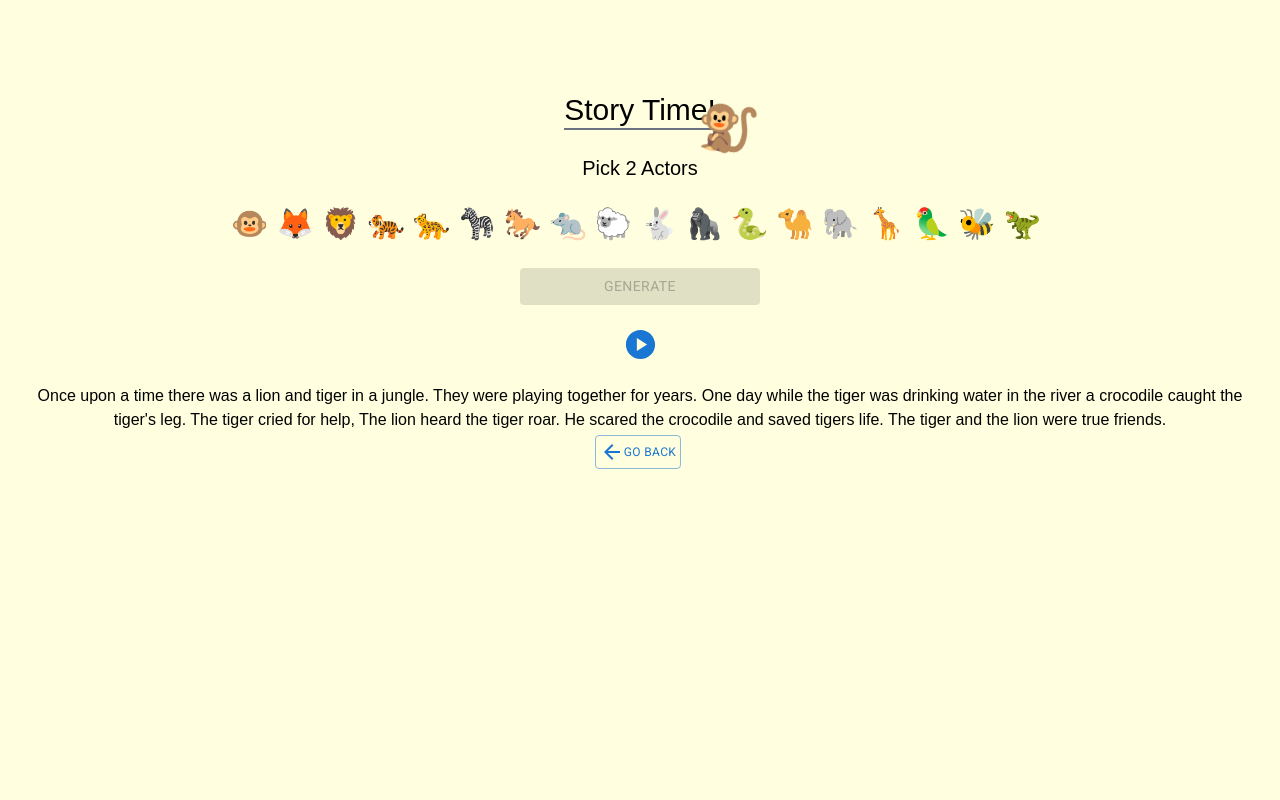
Test: generate button is disabled when all character buttons are deselected
Expected: the button "Generate" is disabled, x1=520 y1=268 x2=760 y2=305
Click the button "🦒" at (886, 224), box x1=867 y1=206 x2=905 y2=242
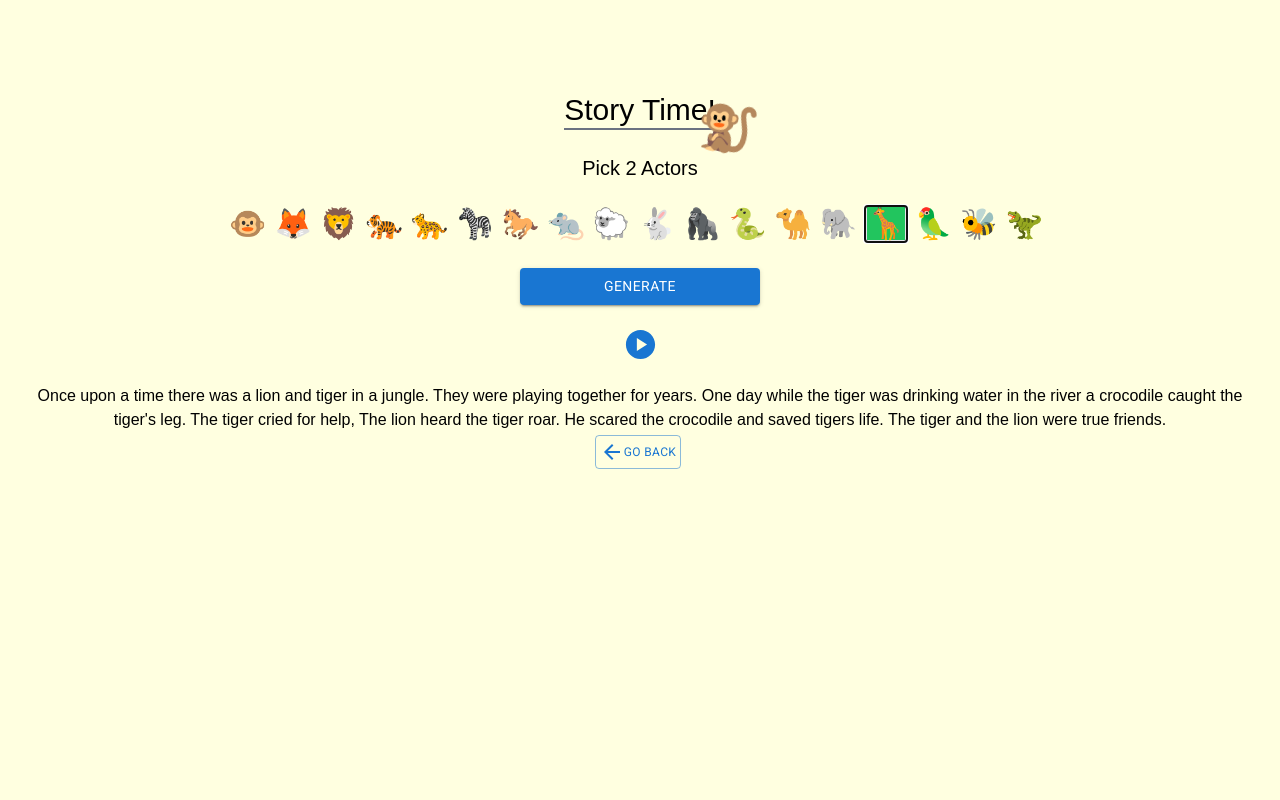
Click the button "🦁" at (339, 224), box x1=320 y1=206 x2=357 y2=242
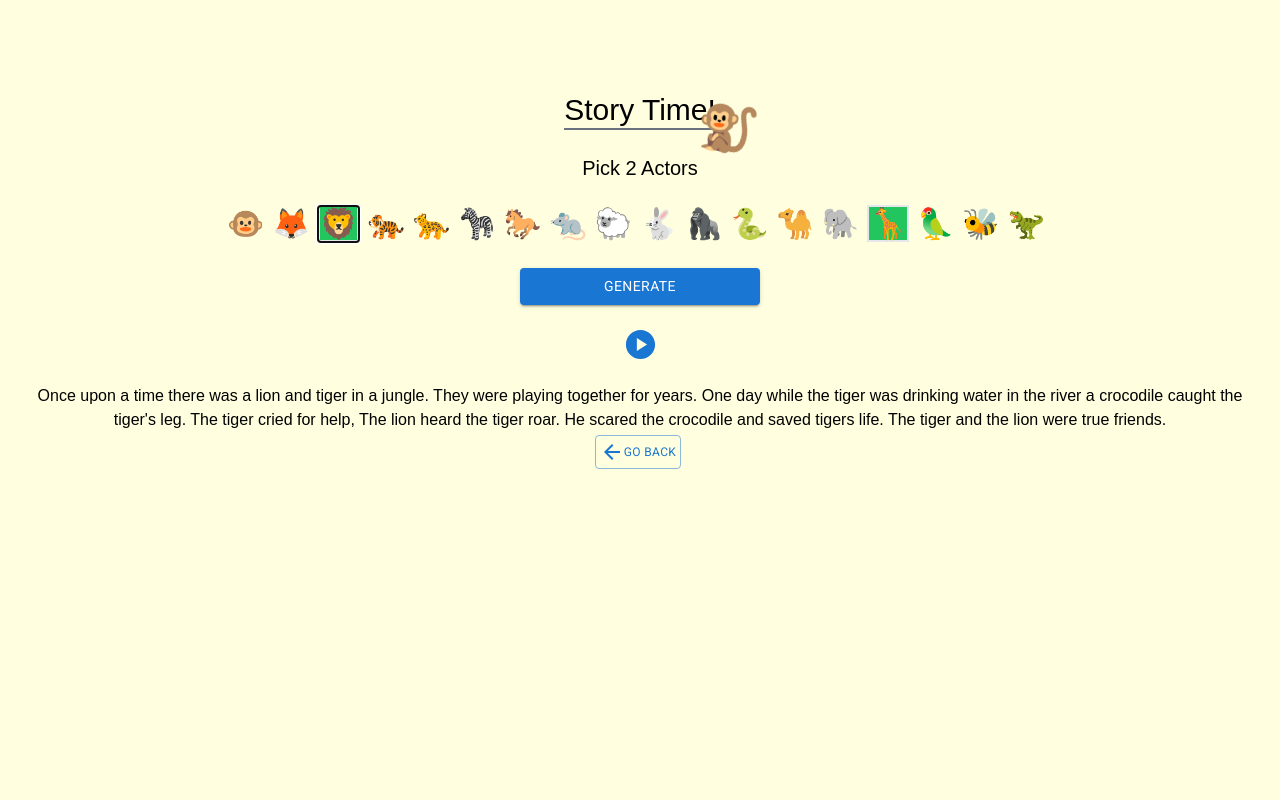
Click the button "🦜" at (935, 224), box x1=917 y1=206 x2=954 y2=242
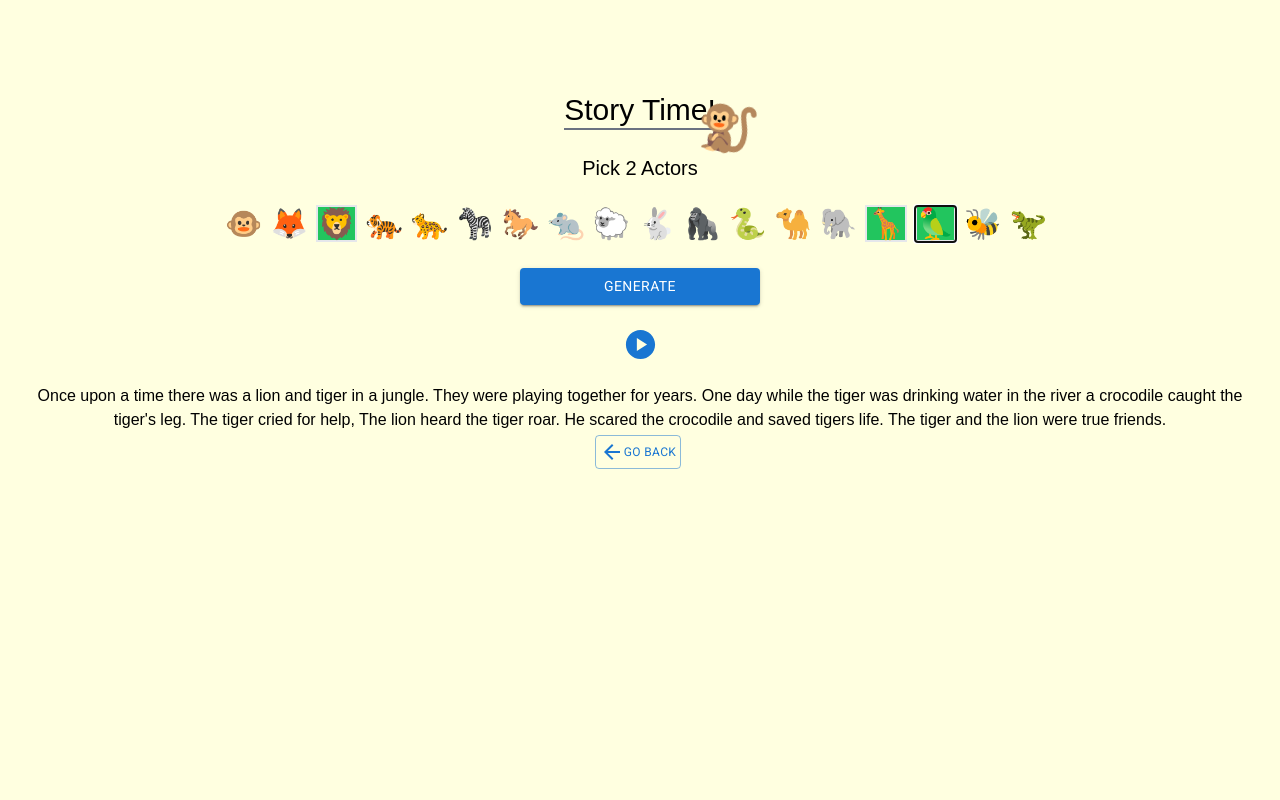
Result: the button "Generate" is enabled at x1=520 y1=268 x2=760 y2=305
Click the button "🦒" at (886, 224), box x1=865 y1=206 x2=907 y2=242
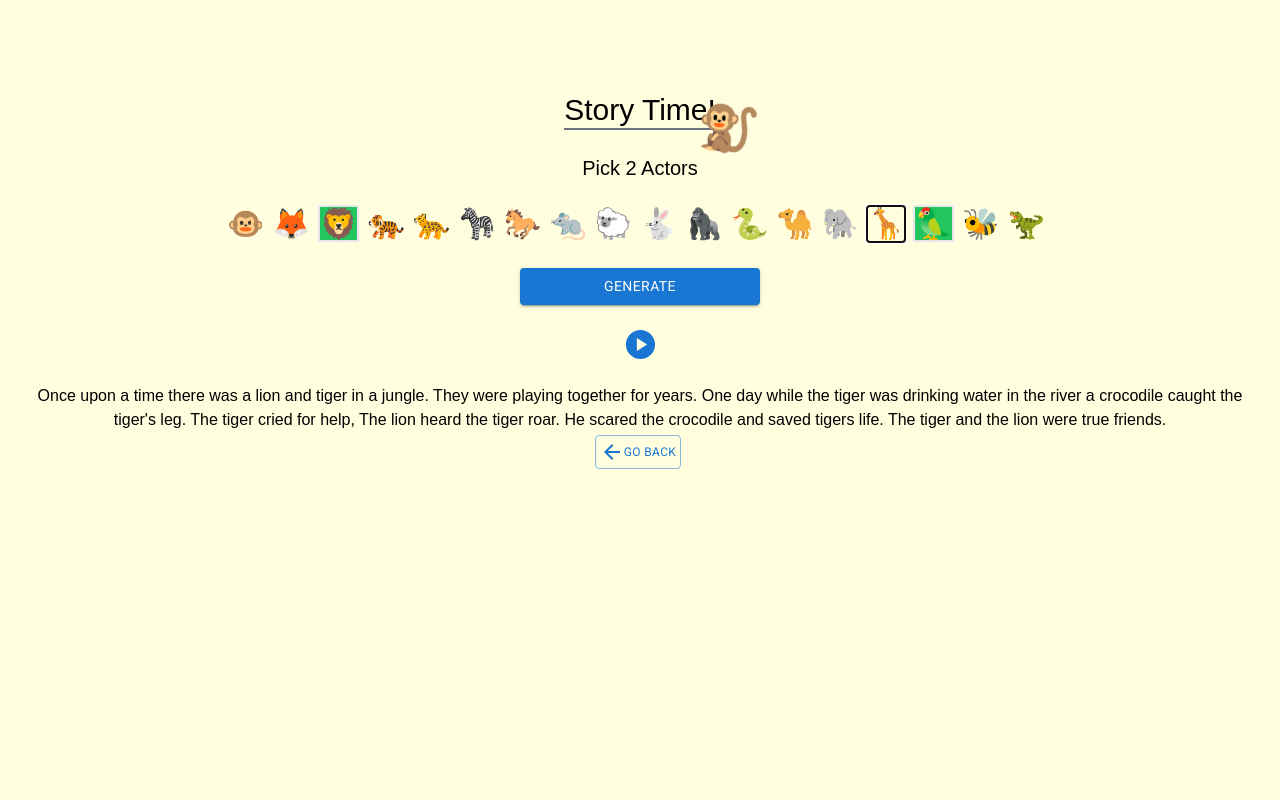
Result: the button "Generate" is enabled at x1=520 y1=268 x2=760 y2=305
Click the button "🦁" at (339, 224), box x1=318 y1=206 x2=359 y2=242
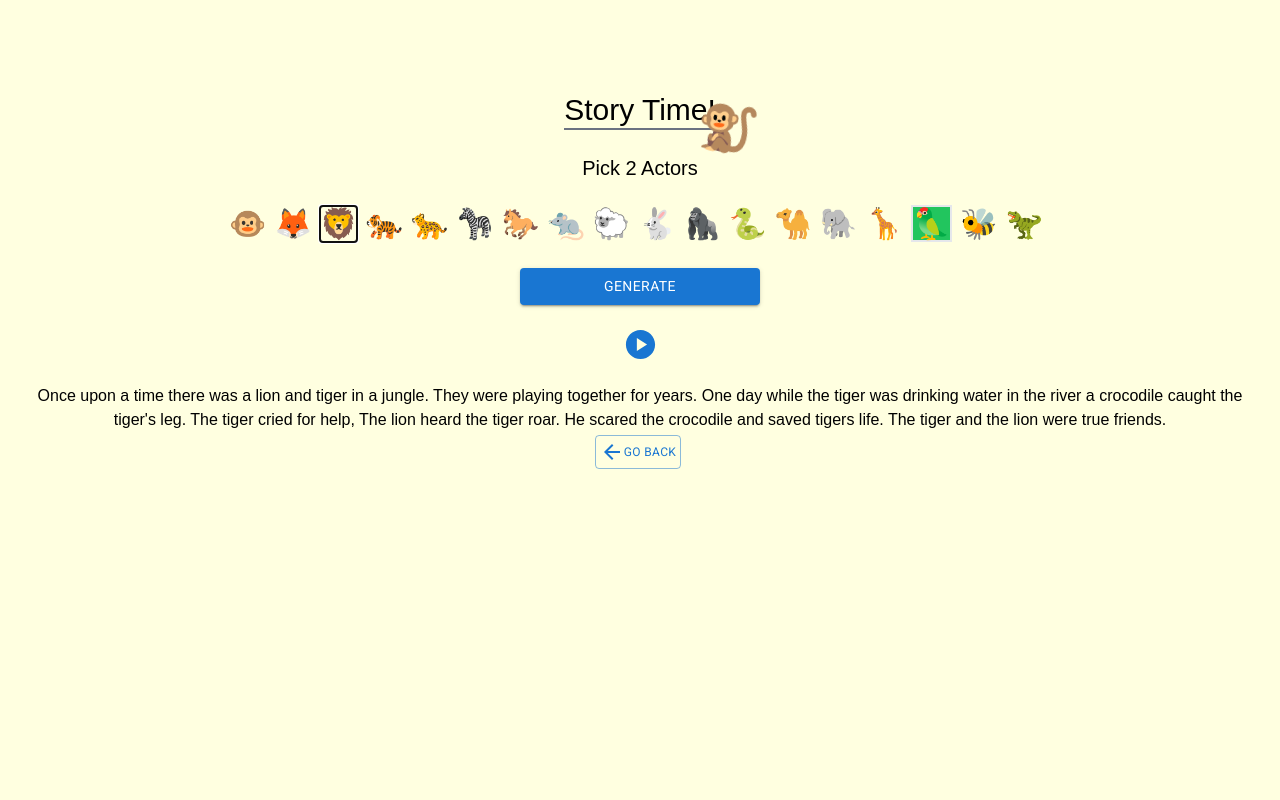
Result: the button "Generate" is enabled at x1=520 y1=268 x2=760 y2=305
Click the button "🦜" at (931, 224), box x1=911 y1=206 x2=952 y2=242
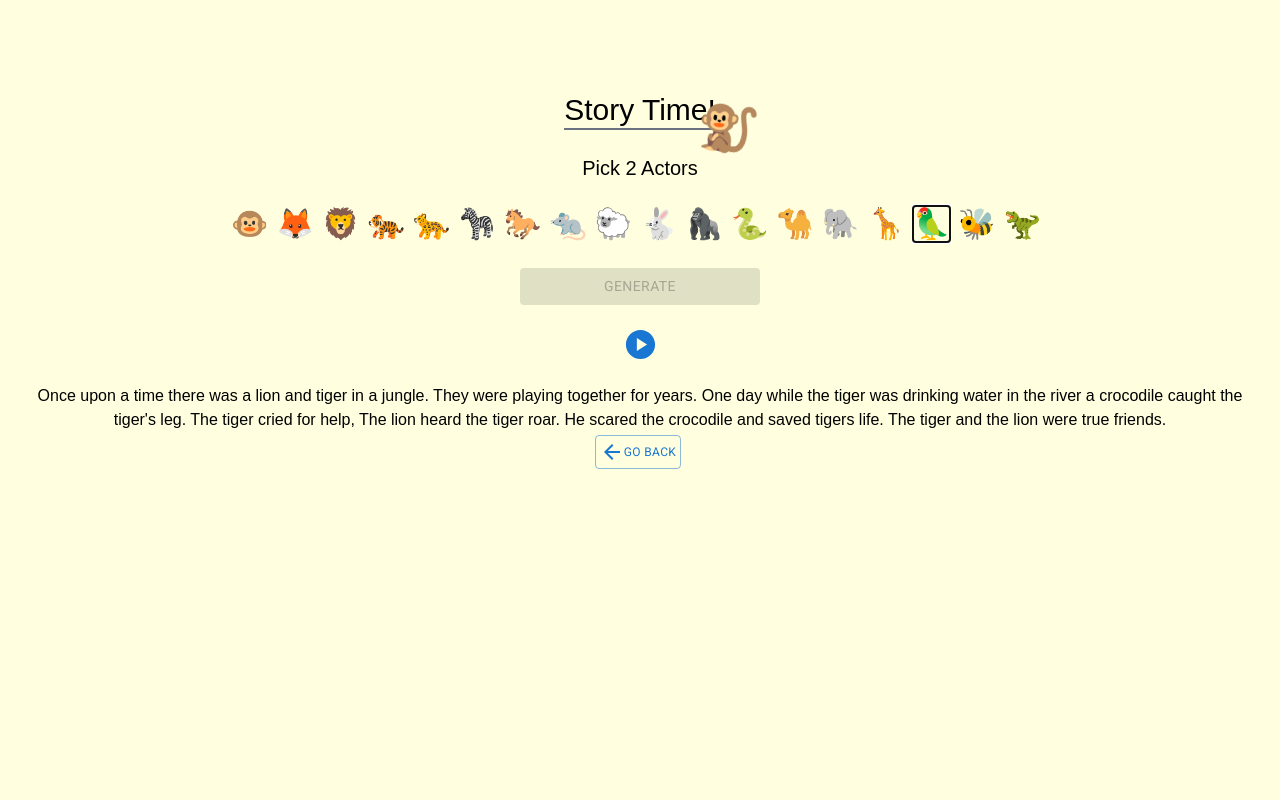
Result: the button "Generate" is disabled at x1=520 y1=268 x2=760 y2=305
